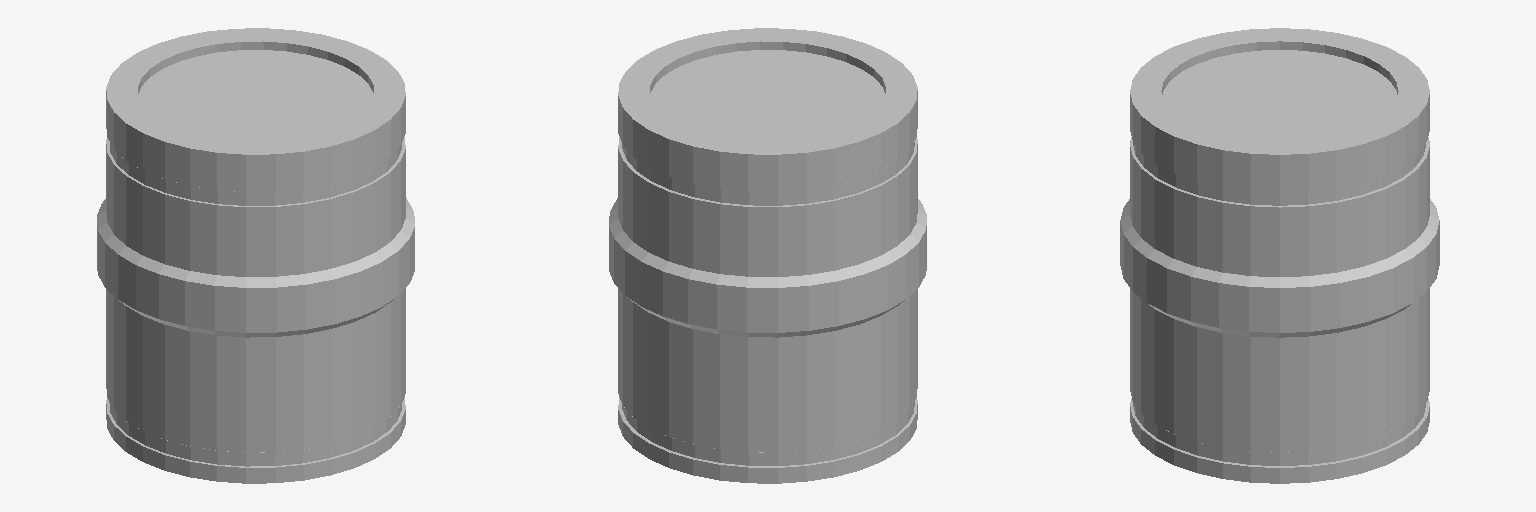
File: barrel_01.obj
3 renders of one model, left to right at view 1: azimuth 30°, elevation 25°; view 2: azimuth 150°, elevation 25°; view 3: azimuth 270°, elevation 25°, orthographic.
Visible parts, largest first — view 1: Cylinder.003; view 2: Cylinder.003; view 3: Cylinder.003.
Boxes of the visible parts, x1=… form: Cylinder.003: x1=97, y1=28, x2=414, y2=483; Cylinder.003: x1=609, y1=28, x2=926, y2=483; Cylinder.003: x1=1120, y1=28, x2=1439, y2=483.
Size of the model in its own units: 106 by 121 by 106.